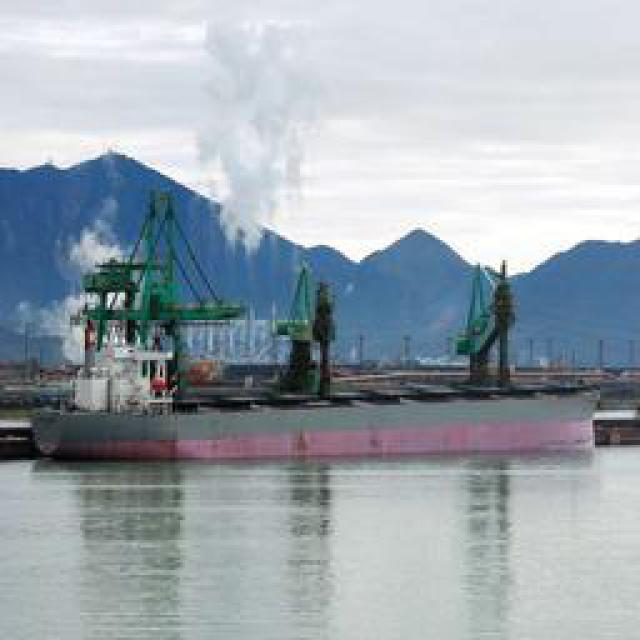Ship: (44, 376, 594, 464)
